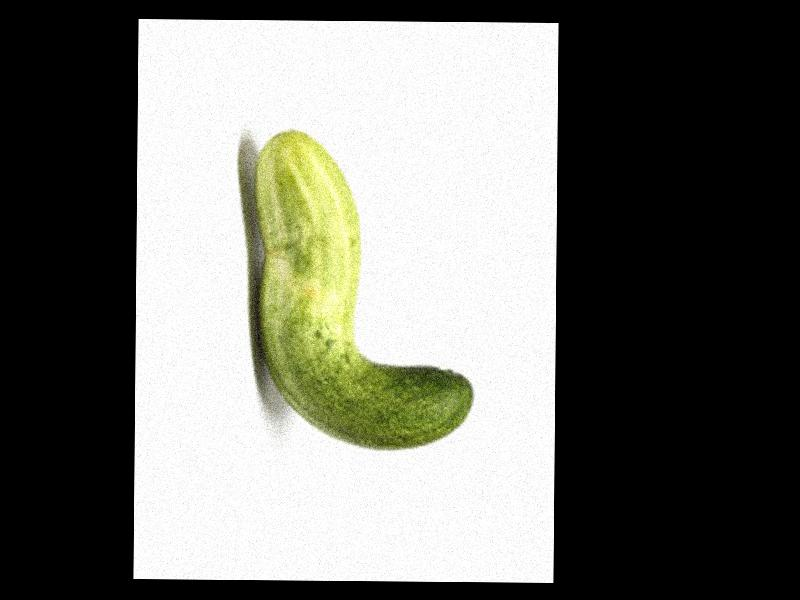Cucumber: (250, 129, 475, 451)
